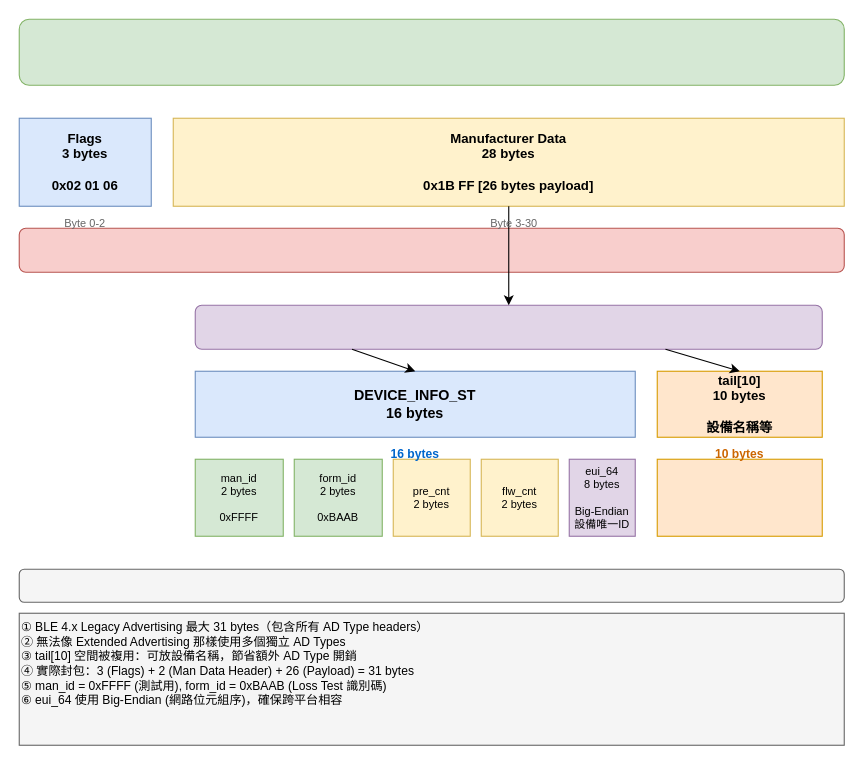
Image size: 864x765. Some labels were removed from this diagram. Here are the shapes that lost their labels. From the top down, the box of each, then its label:
(18, 18, 844, 85): Legacy Advertising 封包結構 (BLE 4.x - 最大 31 bytes)
(18, 227, 844, 272): Total: 31 bytes (BLE 4.x 最大限制)
(194, 304, 822, 349): DEVICE_INFO_BTv4_ST (26 bytes)
(656, 458, 822, 536): 例如: "LossTst123" (最多 10 bytes)
(18, 568, 844, 602): 重要限制說明
